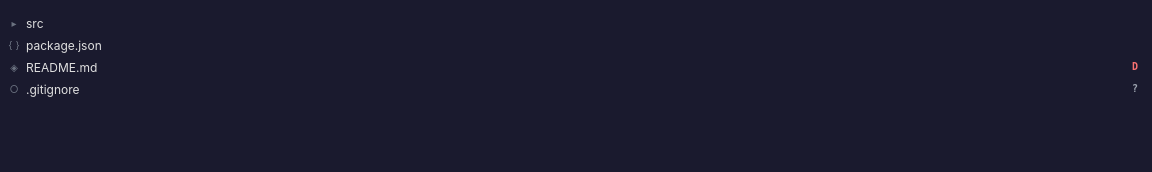
Test: FileTree › right-click shows context menu
Right-click the text "package.json".
right_click(64, 45)  # box [26,38,102,52]
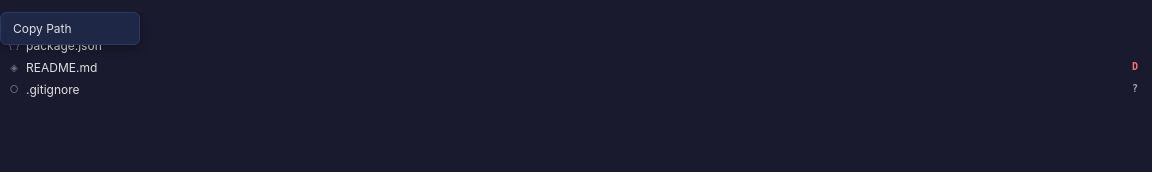
Check: the menu item "Copy Path" is shown, box [1,17,139,40]
